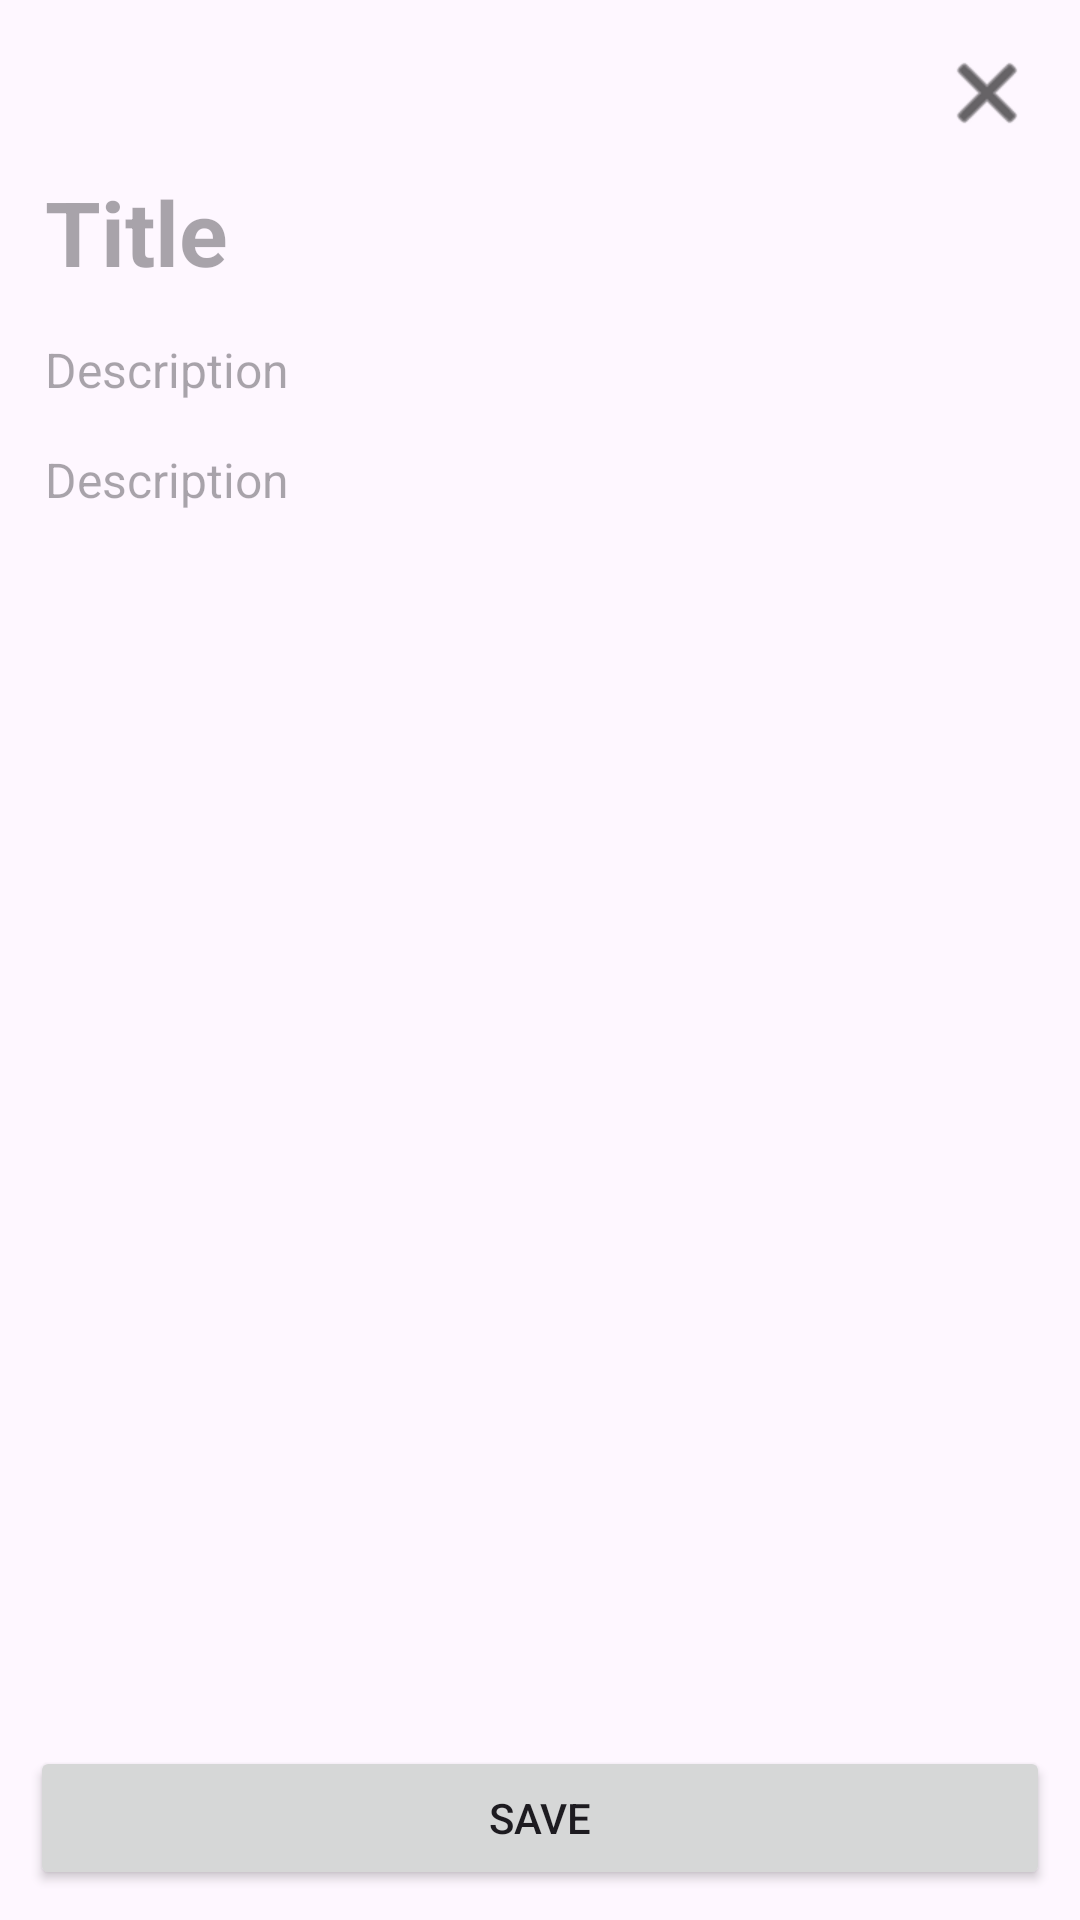

Where to tap for icons on this 1080px×1920px app screen, as point (x, y):
close clear cancel: point (987, 93)
